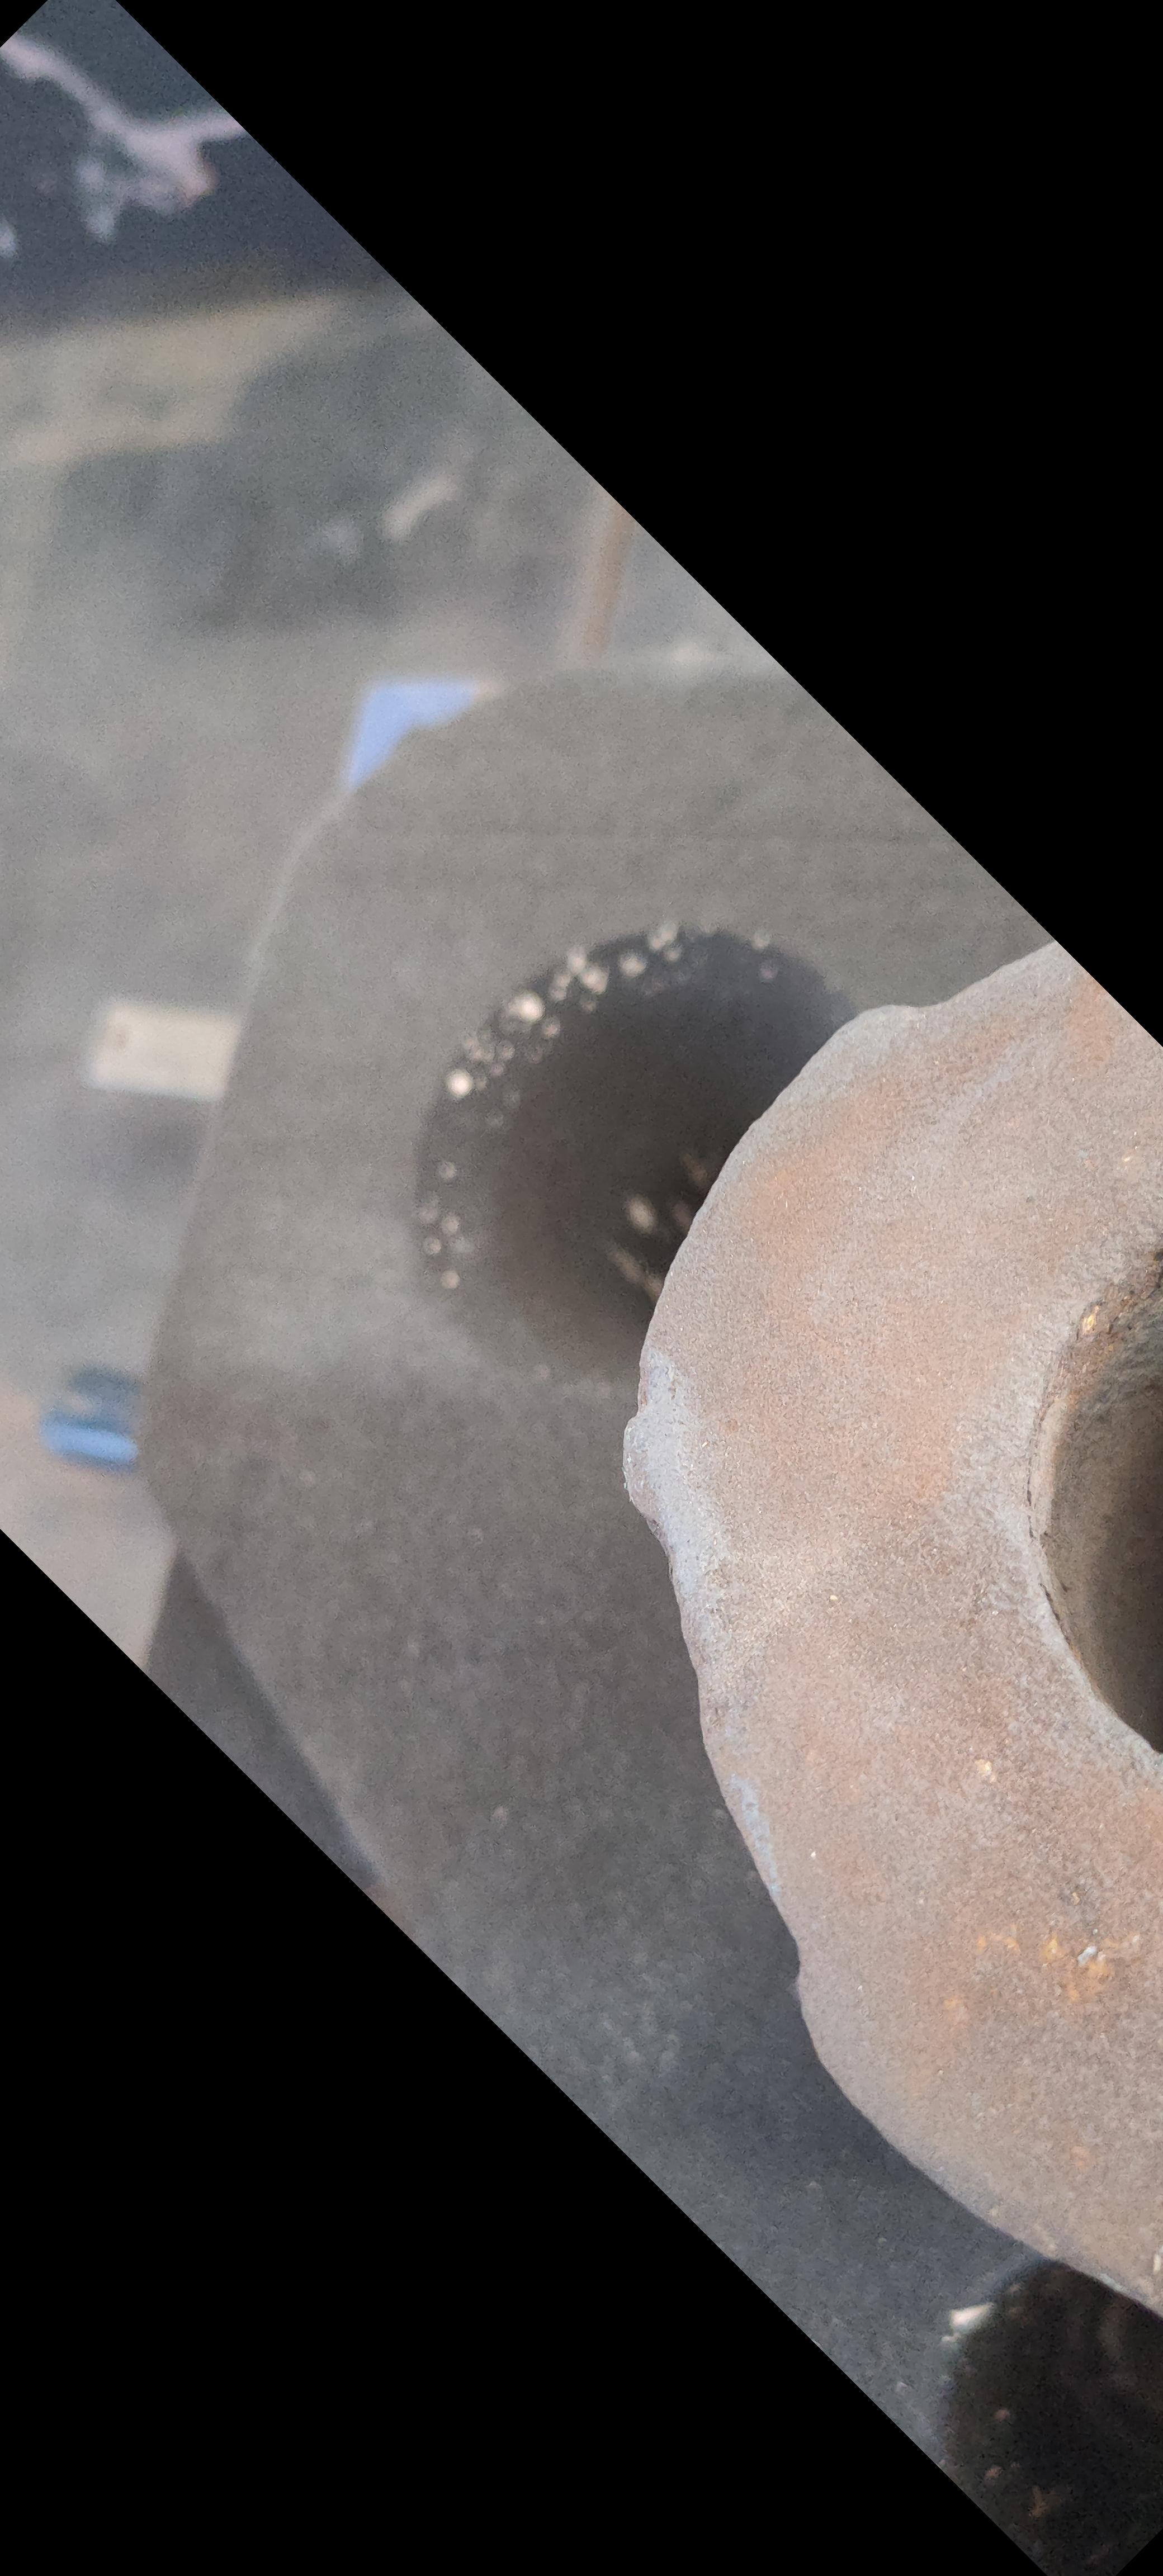pouring hole: (396, 925, 895, 1401)
